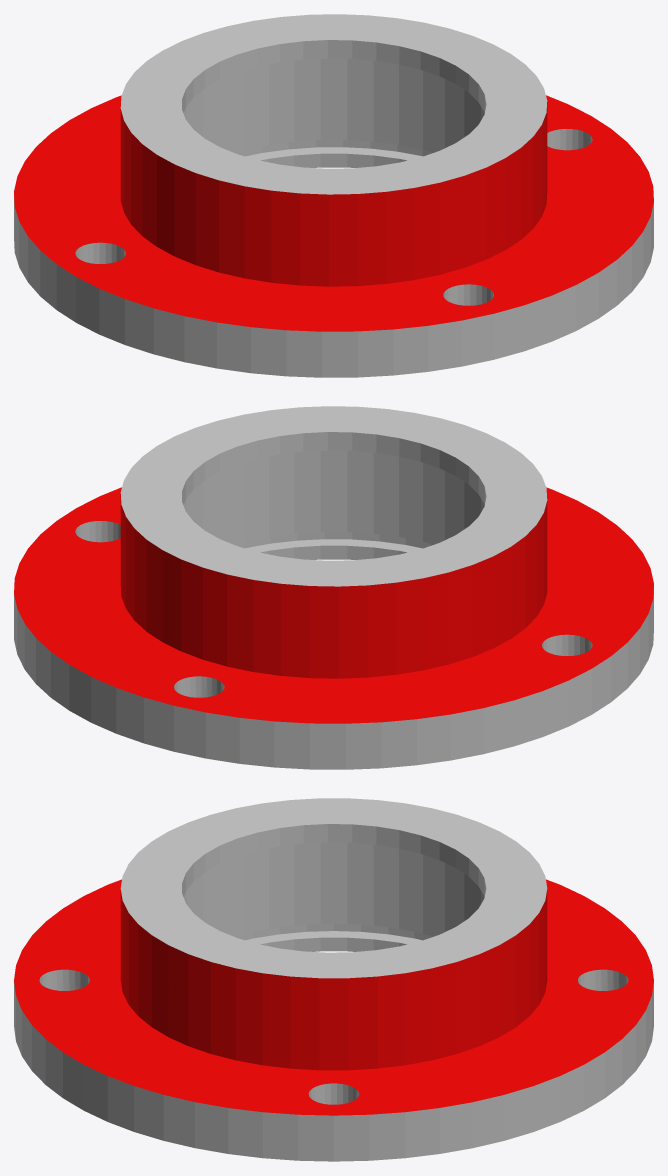
File: 963502_RW44_IT6_stp_3_4.obj
3 views of the same model, one above another, from view 1: azimuth 30°, elevation 25°; view 2: azimuth 150°, elevation 25°; view 3: azimuth 270°, elevation 25° (orthographic).
Visible parts, largest first — view 1: Object1; view 2: Object1; view 3: Object1.
Part boxes in pixels (box(x1,y1,x2,y2)): Object1: box(14, 14, 653, 377); Object1: box(14, 406, 653, 769); Object1: box(14, 798, 653, 1161).
Bounding box in the file's own units: 63 × 15 × 63.
